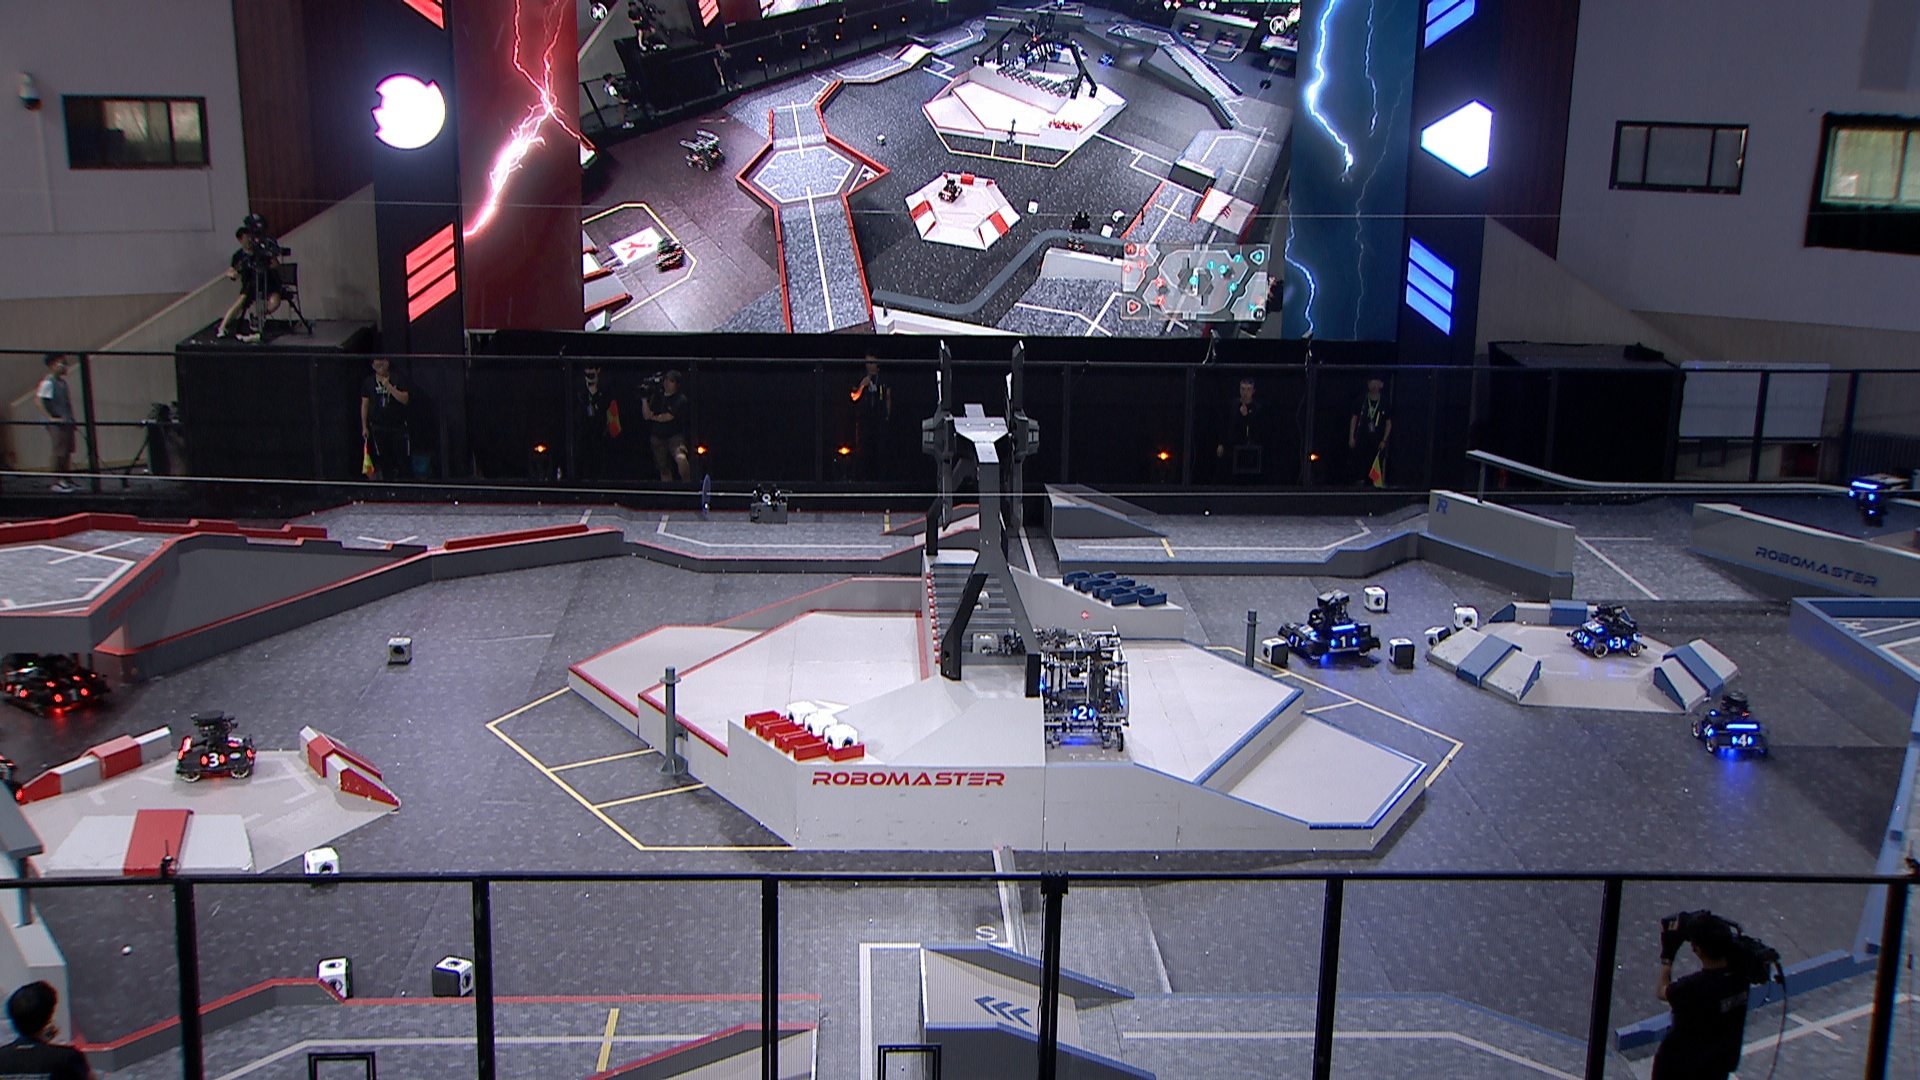armor: (54, 688, 91, 705), (199, 750, 228, 770), (45, 674, 80, 688), (5, 680, 30, 700), (1731, 731, 1754, 750), (1072, 704, 1096, 723), (1847, 489, 1876, 504), (1331, 636, 1358, 650), (1298, 622, 1319, 641), (1575, 629, 1593, 646), (1607, 636, 1627, 651), (225, 736, 247, 750), (1700, 723, 1716, 741), (1288, 636, 1305, 651), (1586, 622, 1604, 636)
car: (1034, 626, 1130, 752), (1278, 588, 1381, 666), (177, 709, 256, 781), (1693, 695, 1771, 760), (1567, 603, 1644, 659)
ignore: (679, 129, 727, 169), (657, 237, 686, 270), (938, 178, 965, 204), (1067, 225, 1088, 251), (1098, 49, 1117, 67), (1055, 0, 1067, 12)
watcher: (1846, 471, 1905, 533)
